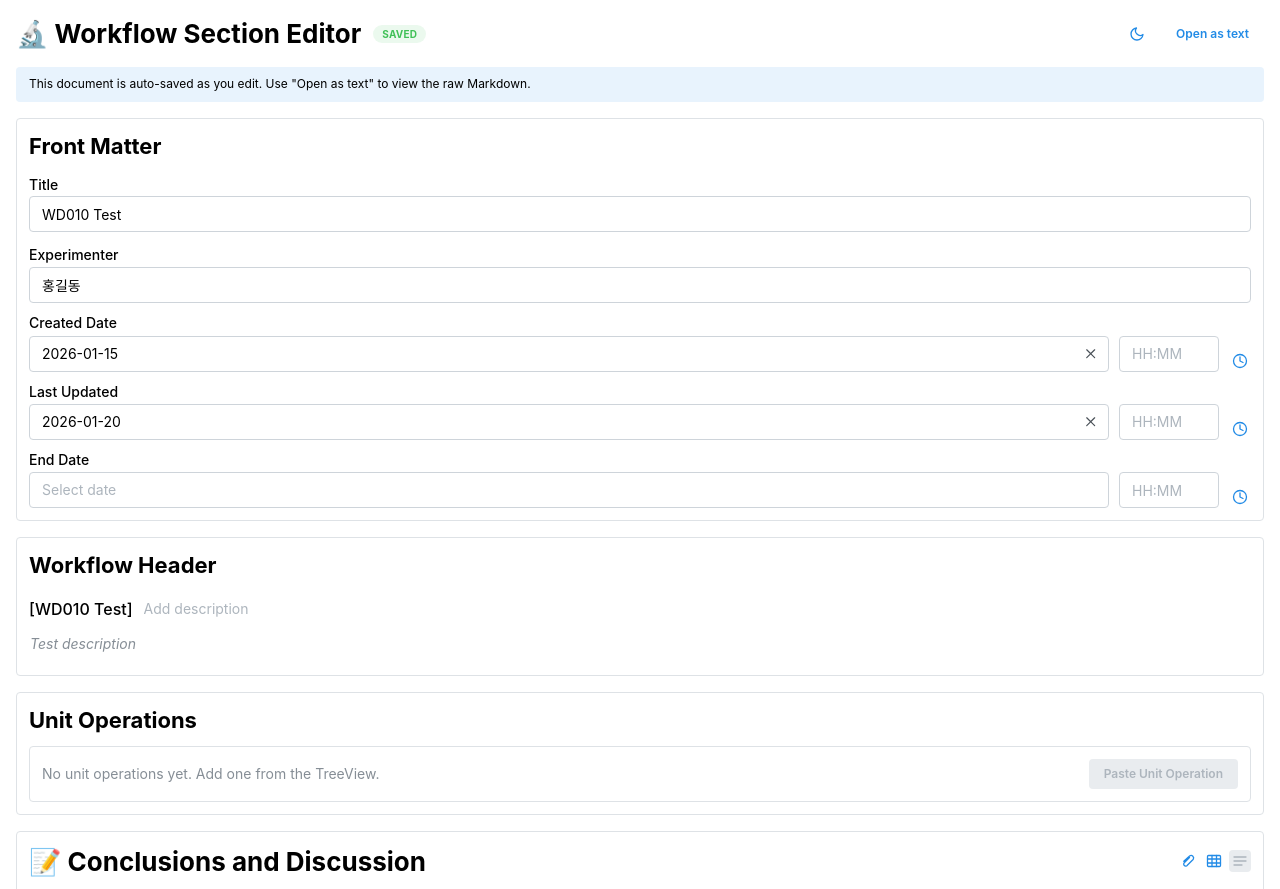
it: App › syncs workflowHeader when title with " - " separator is edited
Replace the text in the field labelled "Title" with "WB150 PCR - 진행" at (640, 214), box [29, 196, 1251, 232]
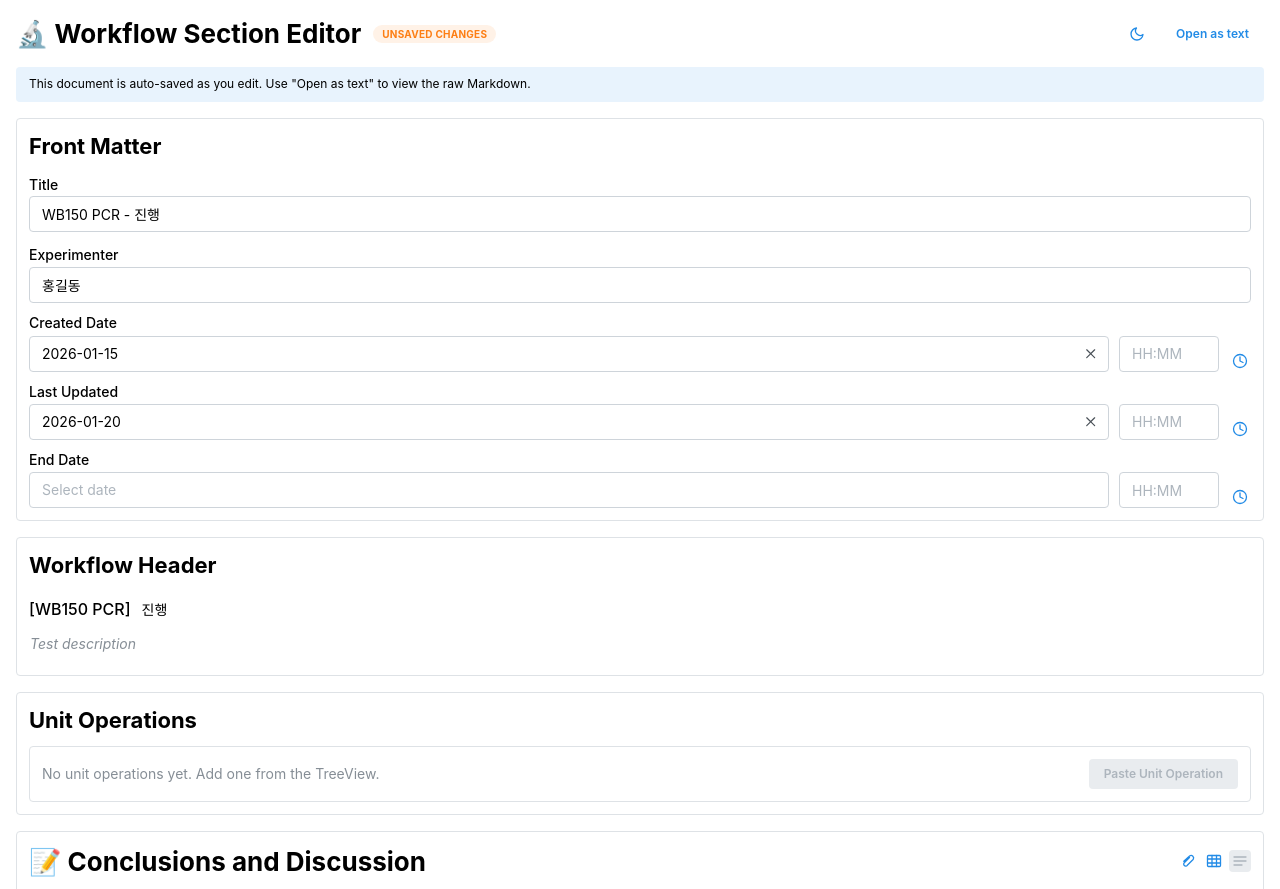
Expected: the text "[WB150 PCR]" is shown, [29, 597, 131, 621]
Now the field showing "진행" is shown, box [141, 591, 1251, 627]
